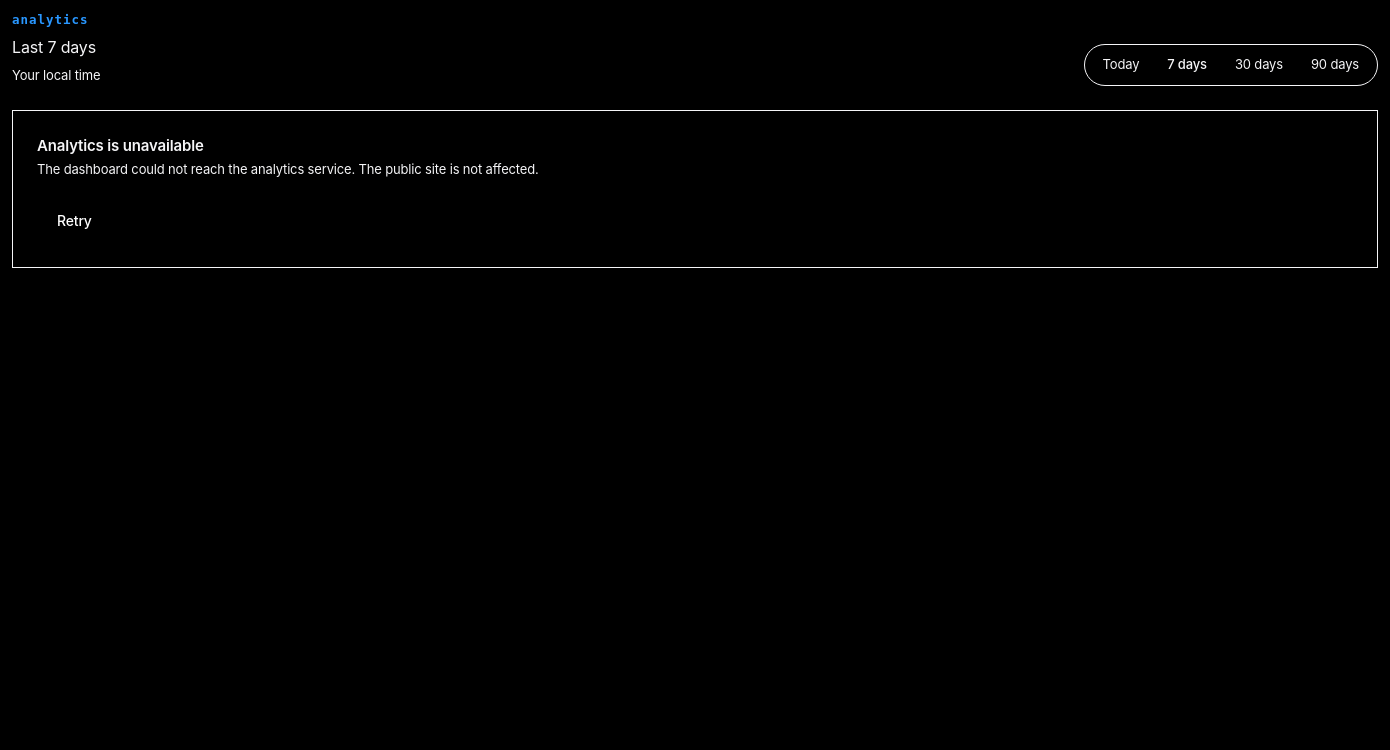
Test: Retry on the unavailable card refetches the report, never the session, and shows the data
expect the element "Analytics is unavailable" is shown: met, box [12,110,1378,268]
Click the button "Retry". click: point(74, 221)
box: [37,199,112,243]
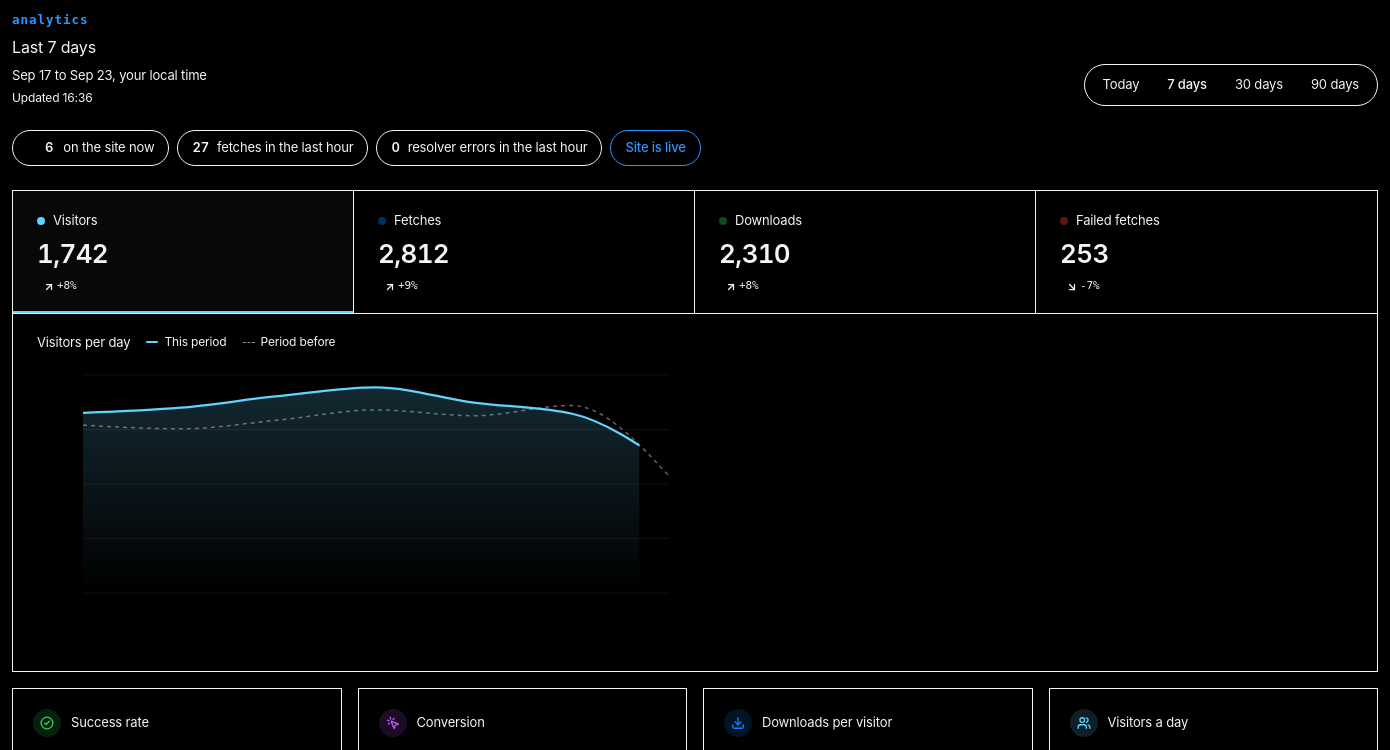
expect the text "Sep 17 to Sep 23, your local time" is shown: met, box [12,65,207,86]
expect the heading "Analytics is unavailable" is gone: met
expect the number of tabs is 4: met, box [13,191,354,313]; [354,191,695,313]; [695,191,1036,313]; [1036,191,1377,313]
